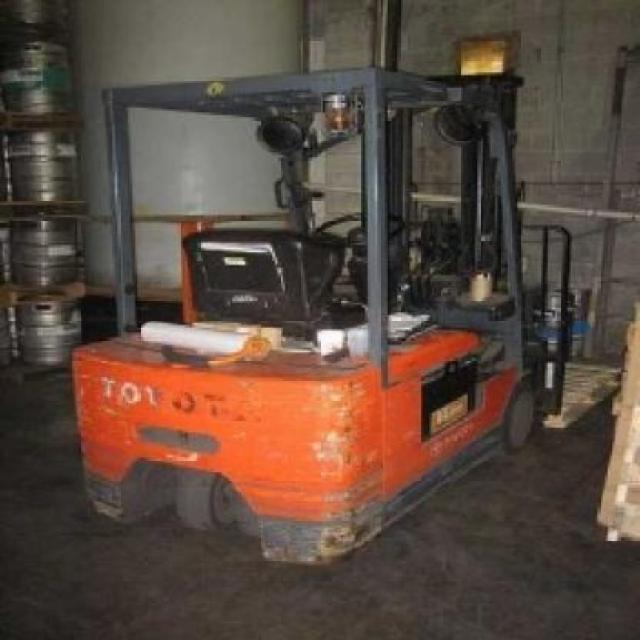forklift: (50, 49, 581, 568)
